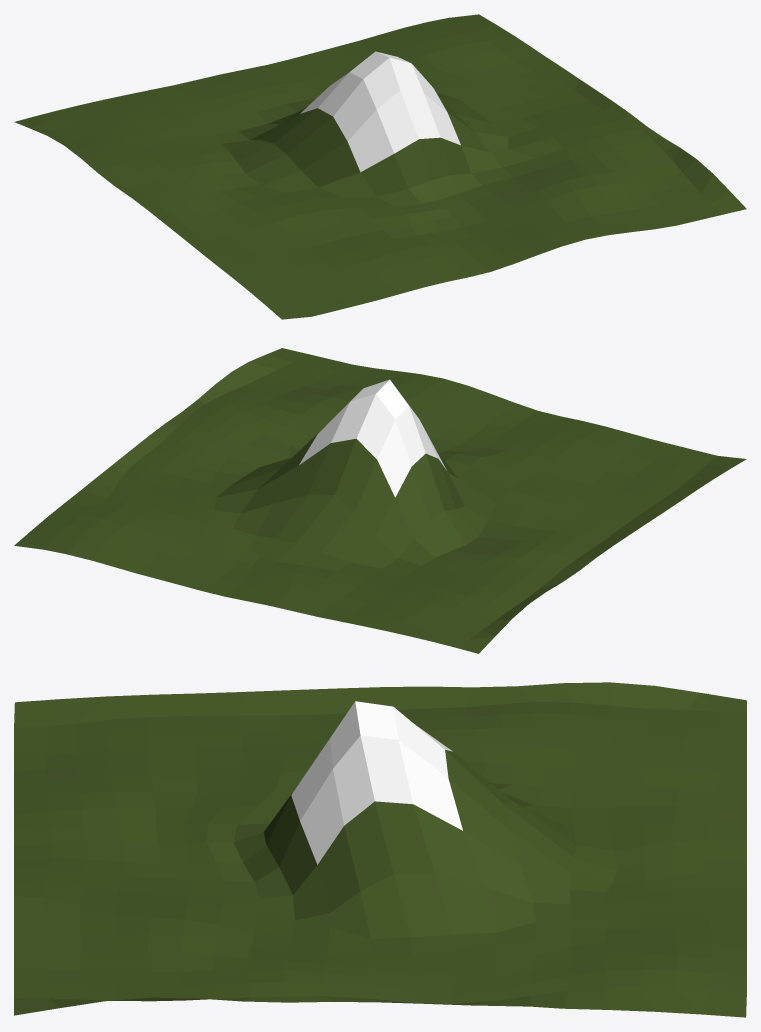
Rendered from Mountain_1.fbx.
The picture shows the model from 3 angles, top to bottom: view 1: azimuth 30°, elevation 25°; view 2: azimuth 150°, elevation 25°; view 3: azimuth 270°, elevation 25°; orthographic projection. The views are drawn at different scales.
Visible parts, largest first — view 1: Mountain_1; view 2: Mountain_1; view 3: Mountain_1.
Part boxes in pixels (bbox=[...]): Mountain_1: bbox=[14, 14, 746, 319]; Mountain_1: bbox=[14, 348, 746, 653]; Mountain_1: bbox=[14, 682, 746, 1017].
Size of the model in its own units: 2500 by 608 by 2500.
